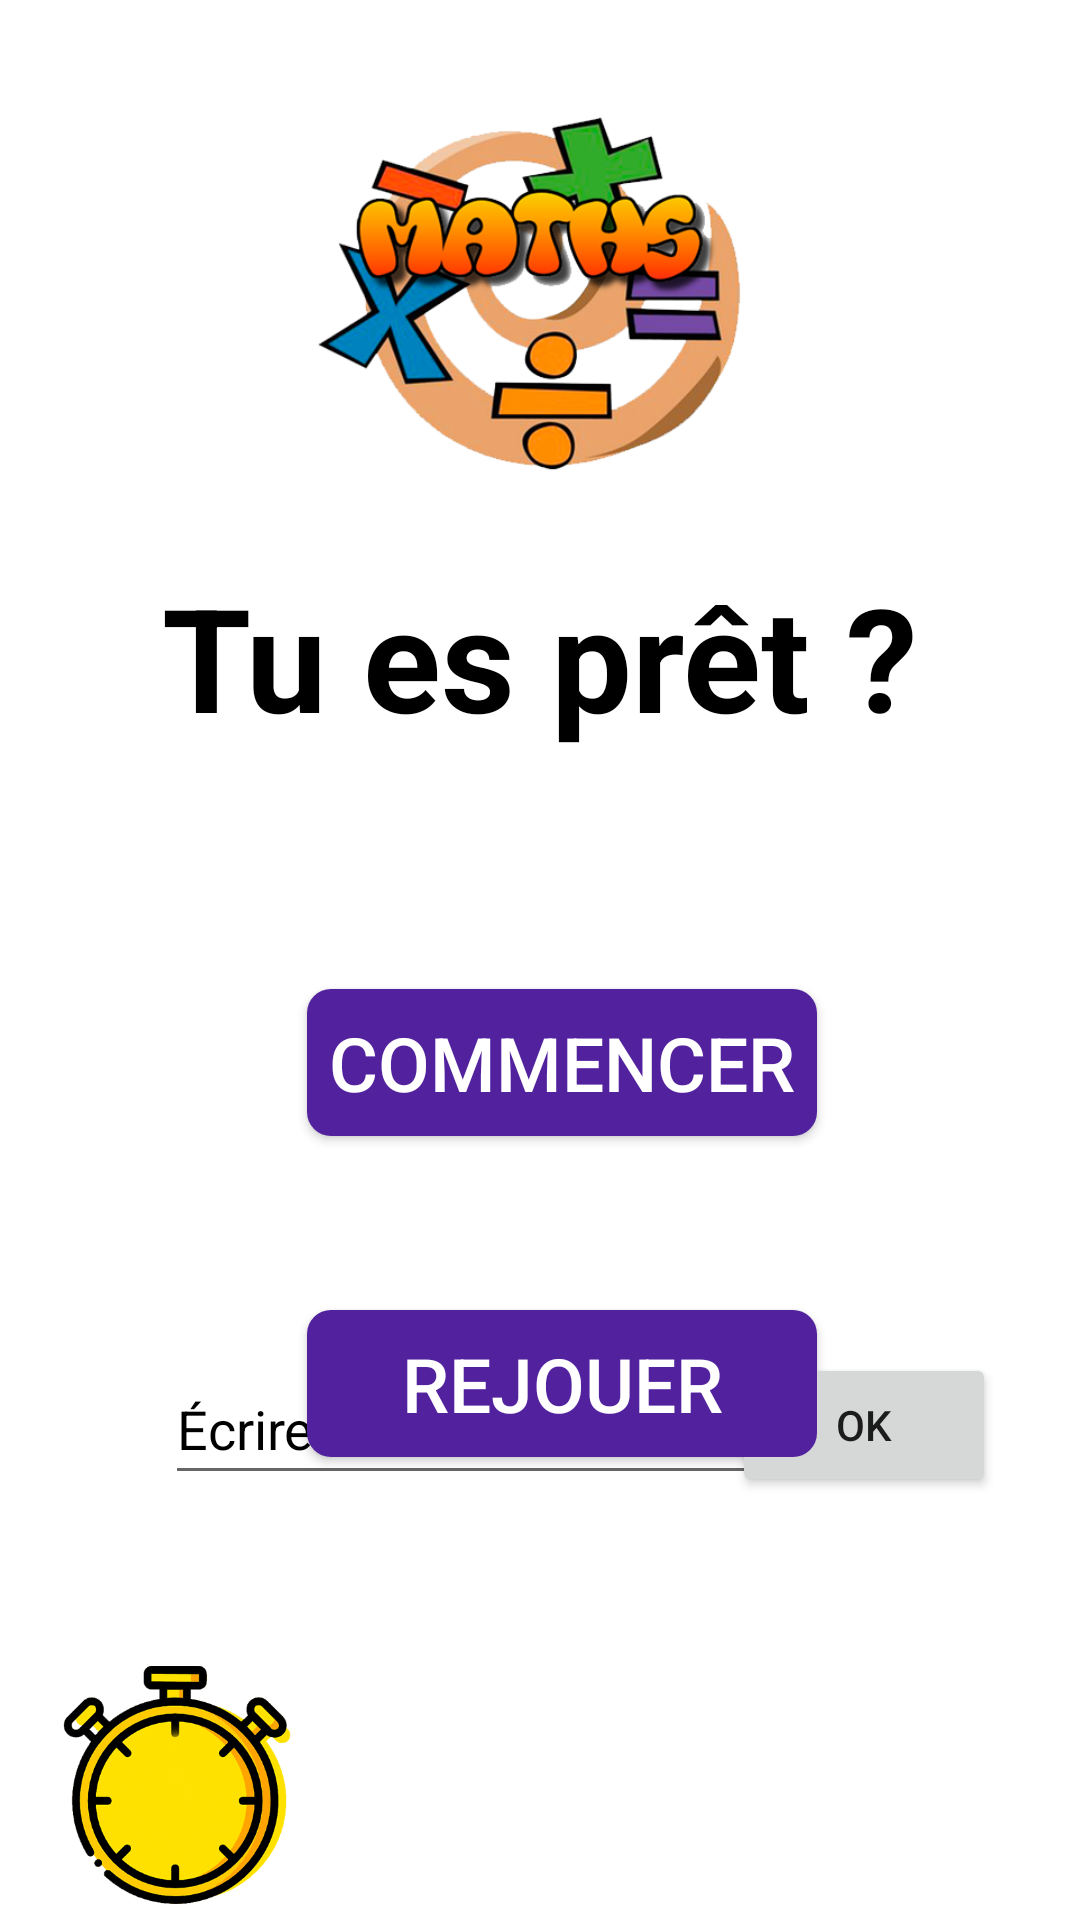

Icons on this 1080px x 1920px Android screen, each with its box as BBox(x1, y1, x2, y2):
chrono: BBox(63, 1666, 291, 1904)
